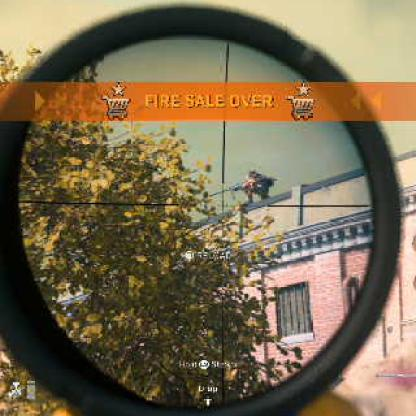enemy: (238, 168, 277, 206)
